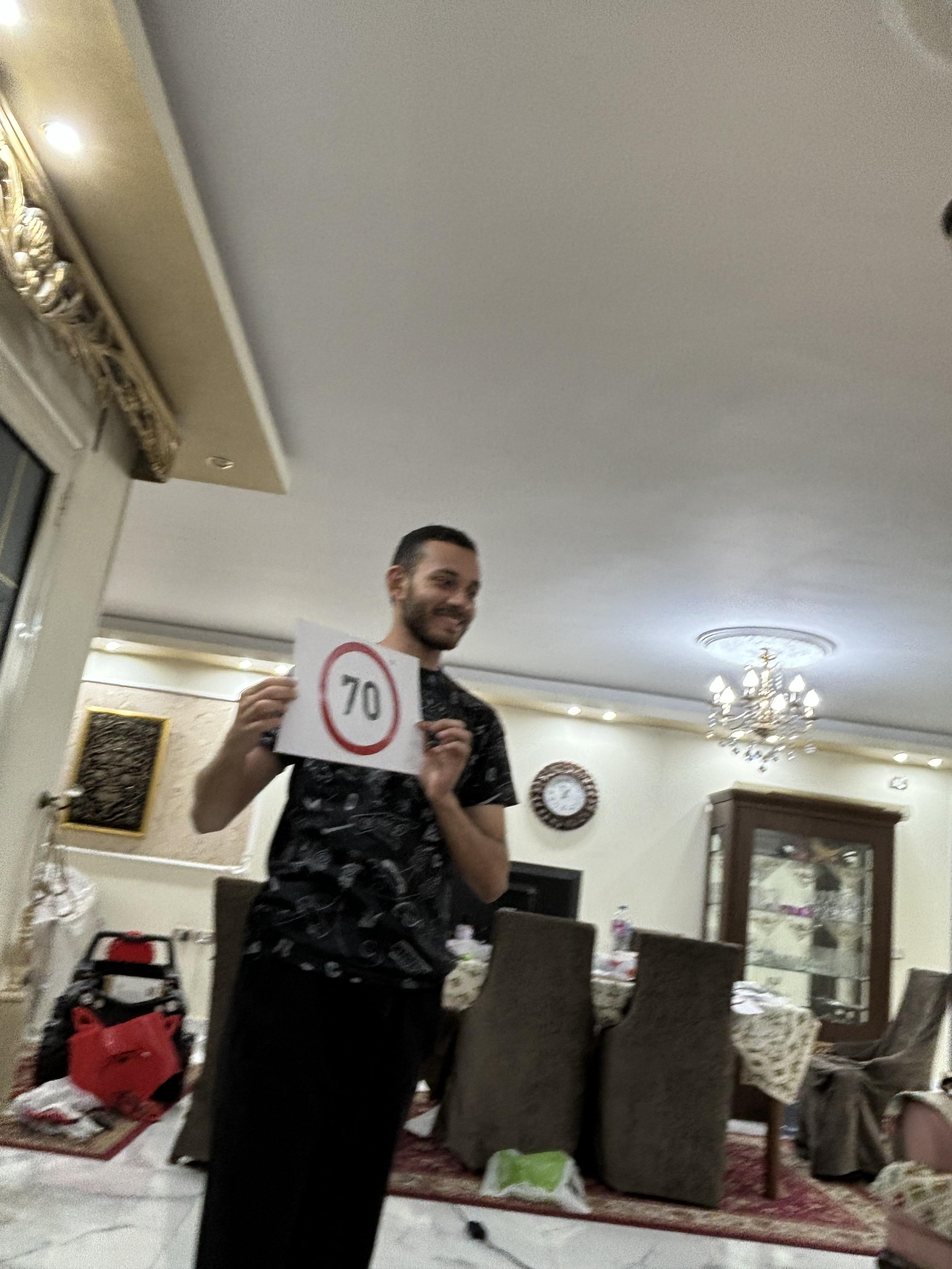70-Speed: (313, 637, 403, 755)
